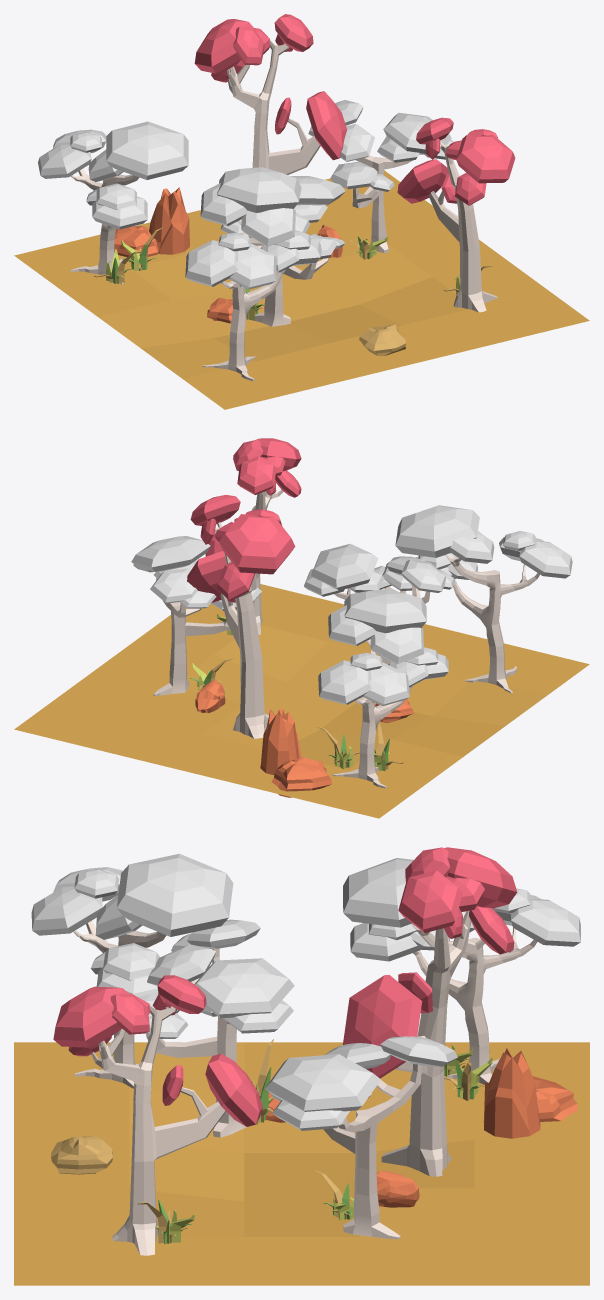
The model's file is floor_tile_jasmijn_2.fbx.
3 renders of one model, top to bottom at view 1: azimuth 30°, elevation 25°; view 2: azimuth 150°, elevation 25°; view 3: azimuth 270°, elevation 25°, orthographic. The views are drawn at different scales.
Parts seen in each view (by area): view 1: tile, bladeren_pasted__left_leafs_bladeren_pasted__tree_bladeren_g (×14), bladeren_pasted__pSphere3_bladeren_pasted__left_leafs_blader (×3), stam_2, pasted__pSphere6_2, pCylinder2_6, steen_3, stam, pasted__pSphere3, pasted__pSphere6, upper_part, pCylinder1_7 (+10 smaller); view 2: tile, bladeren_pasted__left_leafs_bladeren_pasted__tree_bladeren_g (×12), bladeren_pasted__pSphere3_bladeren_pasted__left_leafs_blader (×2), stam, pasted__pSphere6, pCylinder2_6, pCylinder1_7, steen_3, pCylinder2_7, steen_4, pasted__pSphere3, pasted__pSphere8_2 (+5 smaller); view 3: tile, bladeren_pasted__left_leafs_bladeren_pasted__tree_bladeren_g (×14), bladeren_pasted__pSphere3_bladeren_pasted__left_leafs_blader (×4), stam_2, stam, pCylinder1_7, pasted__pSphere3, steen_3, pCylinder2_7, pasted__pSphere6_2, pasted__pSphere8, pasted__pSphere3_2 (+15 smaller).
Part boxes in pixels (x1,y1,x2,y2): tile: (14, 170, 589, 409); bladeren_pasted__left_leafs_bladeren_pasted__tree_bladeren_g (×14): (38, 112, 451, 289); bladeren_pasted__pSphere3_bladeren_pasted__left_leafs_blader (×3): (106, 121, 374, 212); stam_2: (428, 191, 497, 312); pasted__pSphere6_2: (456, 134, 515, 183); pCylinder2_6: (202, 219, 285, 380); steen_3: (149, 187, 189, 254); stam: (249, 118, 320, 247); pasted__pSphere3: (306, 91, 346, 160); pasted__pSphere6: (194, 19, 254, 73); upper_part: (227, 40, 288, 130); pCylinder1_7: (352, 153, 423, 253); tile: (14, 584, 589, 818); bladeren_pasted__left_leafs_bladeren_pasted__tree_bladeren_g (×12): (131, 531, 572, 706); bladeren_pasted__pSphere3_bladeren_pasted__left_leafs_blader (×2): (344, 505, 479, 633); stam: (220, 593, 268, 738); pasted__pSphere6: (219, 514, 295, 574); pCylinder2_6: (445, 554, 539, 693); pCylinder1_7: (153, 578, 236, 696); steen_3: (260, 709, 301, 774); pCylinder2_7: (332, 639, 412, 788); steen_4: (271, 757, 332, 797); pasted__pSphere3: (187, 551, 226, 603); pasted__pSphere8_2: (237, 456, 276, 494); tile: (14, 1042, 589, 1285); bladeren_pasted__left_leafs_bladeren_pasted__tree_bladeren_g (×14): (31, 869, 580, 1130); bladeren_pasted__pSphere3_bladeren_pasted__left_leafs_blader (×4): (117, 853, 413, 1068); stam_2: (112, 1087, 225, 1255); stam: (381, 1004, 451, 1176); pCylinder1_7: (323, 1064, 421, 1239); pasted__pSphere3: (343, 975, 422, 1078); steen_3: (483, 1048, 540, 1138); pCylinder2_7: (411, 923, 537, 1084); pasted__pSphere6_2: (53, 986, 128, 1047); pasted__pSphere8: (398, 870, 462, 932); pasted__pSphere3_2: (205, 1053, 262, 1126).
Size of the model in its own units: 51.38 by 31.97 by 50.
